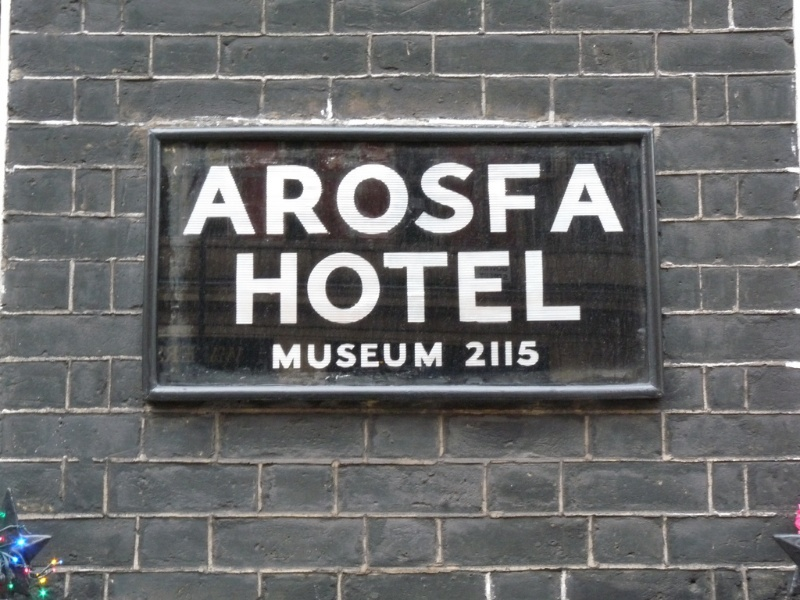text: (193, 161, 208, 239), (209, 161, 224, 239), (225, 161, 240, 239), (241, 161, 256, 239), (257, 161, 272, 239), (273, 161, 288, 239), (289, 161, 304, 239), (305, 161, 320, 239), (321, 161, 336, 239), (337, 161, 352, 239), (353, 161, 368, 239), (369, 161, 384, 239), (385, 161, 400, 239), (401, 161, 416, 239), (417, 161, 432, 239), (433, 161, 448, 239), (449, 161, 464, 239), (465, 161, 480, 239), (481, 161, 496, 239), (497, 161, 512, 239), (513, 161, 528, 239), (529, 161, 544, 239), (545, 161, 560, 239), (561, 161, 576, 239), (577, 161, 592, 239), (593, 161, 608, 239), (609, 161, 624, 239), (241, 250, 256, 326), (257, 250, 272, 326), (273, 250, 288, 326), (289, 250, 304, 326), (305, 250, 320, 326), (321, 250, 336, 326), (337, 250, 352, 326), (353, 250, 368, 326), (369, 250, 384, 326), (385, 250, 400, 326), (401, 250, 416, 326), (417, 250, 432, 326), (433, 250, 448, 326), (449, 250, 464, 326), (465, 250, 480, 326), (481, 250, 496, 326), (497, 250, 512, 326), (513, 250, 528, 326), (529, 250, 544, 326), (545, 250, 560, 326), (561, 250, 576, 326), (180, 161, 192, 239), (232, 250, 240, 326), (273, 340, 288, 372), (289, 340, 304, 372), (305, 340, 320, 372), (321, 340, 336, 372), (337, 340, 352, 372), (353, 340, 368, 372), (369, 340, 384, 372), (385, 340, 400, 372), (401, 340, 416, 372), (417, 340, 432, 372), (577, 250, 583, 326), (433, 340, 447, 372), (465, 340, 480, 368), (481, 340, 496, 368), (497, 340, 512, 368), (513, 340, 528, 368), (529, 340, 541, 368), (625, 161, 626, 239)
